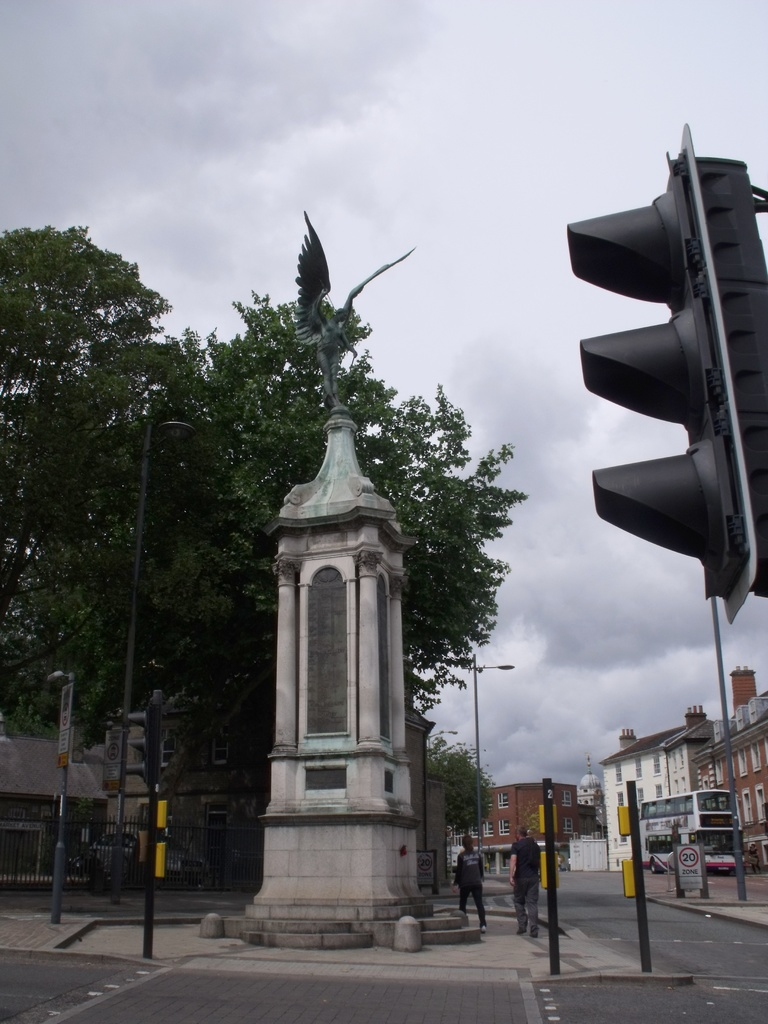Tree: (0, 222, 533, 823)
